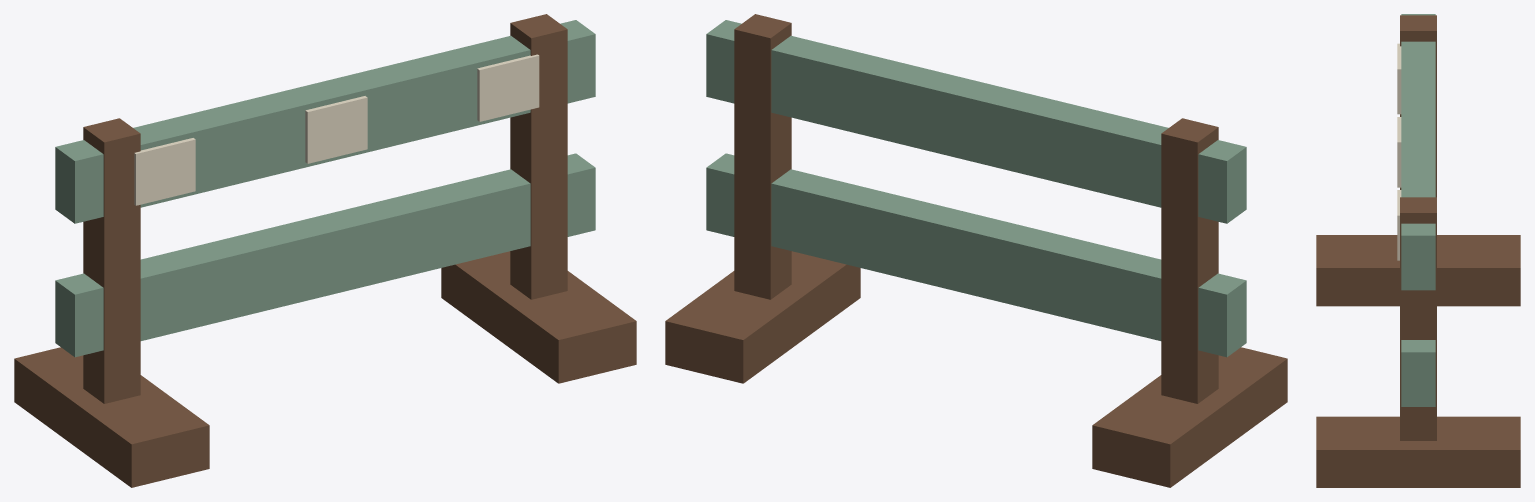
File: barrier.glb
3 renders of one model, left to right at view 1: azimuth 30°, elevation 25°; view 2: azimuth 150°, elevation 25°; view 3: azimuth 270°, elevation 25°, orthographic. The views are drawn at different scales.
Visible parts, largest first — view 1: barrier_Rail_4-col, barrier_Rail_5-col, barrier_Foot_0-col, barrier_Foot_2-col, barrier_Upright_1-col, barrier_Upright_3-col, barrier_ContrastPanel_7, barrier_ContrastPanel_8, barrier_ContrastPanel_6; view 2: barrier_Rail_5-col, barrier_Rail_4-col, barrier_Foot_0-col, barrier_Foot_2-col, barrier_Upright_1-col, barrier_Upright_3-col; view 3: barrier_Foot_2-col, barrier_Foot_0-col, barrier_Rail_5-col, barrier_Upright_3-col, barrier_Rail_4-col, barrier_Upright_1-col, barrier_ContrastPanel_7, barrier_ContrastPanel_6.
Boxes of the visible parts, left/top/right/bottom form: barrier_Rail_4-col: left=55, top=153, right=595, bottom=357; barrier_Rail_5-col: left=55, top=20, right=595, bottom=223; barrier_Foot_0-col: left=14, top=347, right=209, bottom=487; barrier_Foot_2-col: left=441, top=251, right=636, bottom=383; barrier_Upright_1-col: left=83, top=118, right=140, bottom=403; barrier_Upright_3-col: left=510, top=14, right=567, bottom=299; barrier_ContrastPanel_7: left=305, top=96, right=367, bottom=163; barrier_ContrastPanel_8: left=477, top=54, right=539, bottom=121; barrier_ContrastPanel_6: left=134, top=138, right=195, bottom=205; barrier_Rail_5-col: left=706, top=20, right=1246, bottom=223; barrier_Rail_4-col: left=706, top=153, right=1246, bottom=357; barrier_Foot_0-col: left=1092, top=347, right=1287, bottom=487; barrier_Foot_2-col: left=665, top=251, right=860, bottom=383; barrier_Upright_1-col: left=1161, top=118, right=1218, bottom=403; barrier_Upright_3-col: left=734, top=14, right=791, bottom=299; barrier_Foot_2-col: left=1316, top=416, right=1520, bottom=487; barrier_Foot_0-col: left=1316, top=235, right=1520, bottom=306; barrier_Rail_5-col: left=1401, top=14, right=1435, bottom=290; barrier_Upright_3-col: left=1400, top=197, right=1436, bottom=440; barrier_Rail_4-col: left=1401, top=340, right=1435, bottom=406; barrier_Upright_1-col: left=1400, top=15, right=1436, bottom=197; barrier_ContrastPanel_7: left=1397, top=117, right=1401, bottom=187; barrier_ContrastPanel_6: left=1397, top=43, right=1401, bottom=114.
Bounding box in the file's own units: 2 × 1.12 × 0.78.
